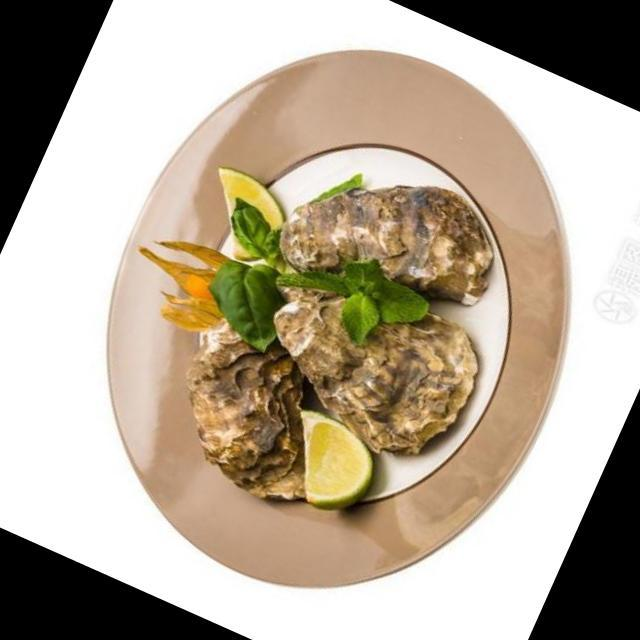Oyster- Indeterminate: (219, 248, 496, 481), (265, 128, 525, 348), (156, 306, 364, 515)
